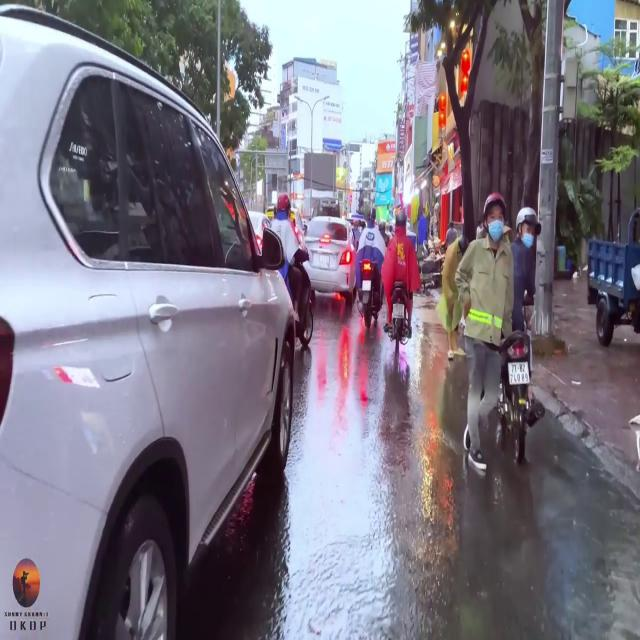bien_trang: (508, 356, 530, 389)
